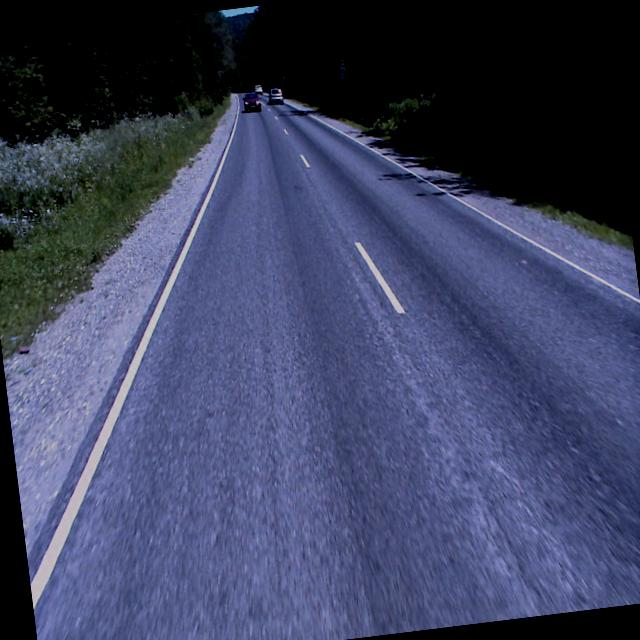road: (27, 93, 640, 640)
